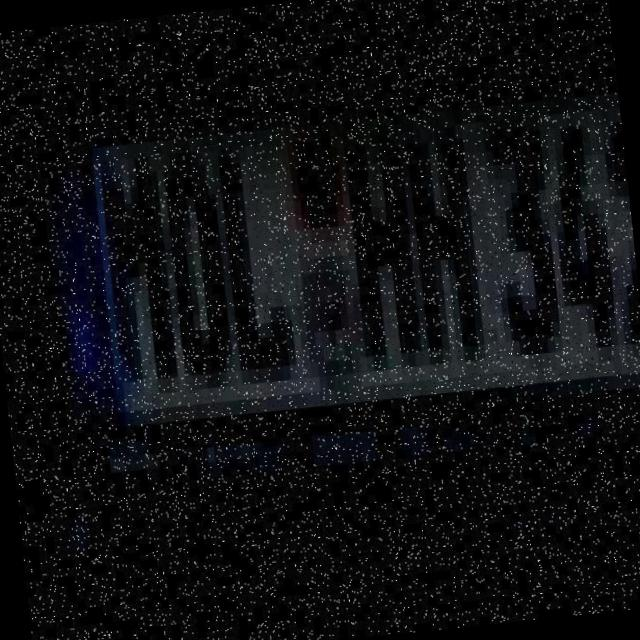LicensePlate: (12, 42, 640, 509)
